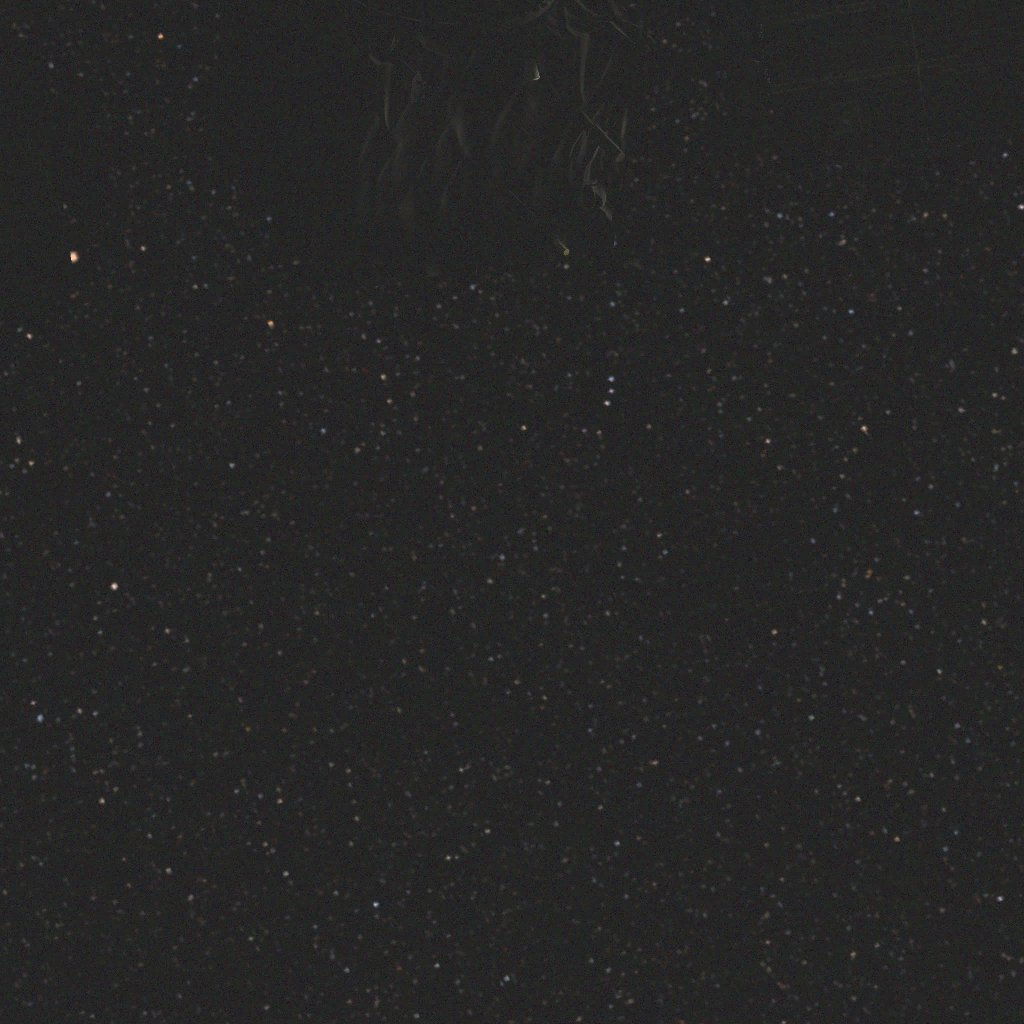smart_1: (0, 0, 1024, 304)
